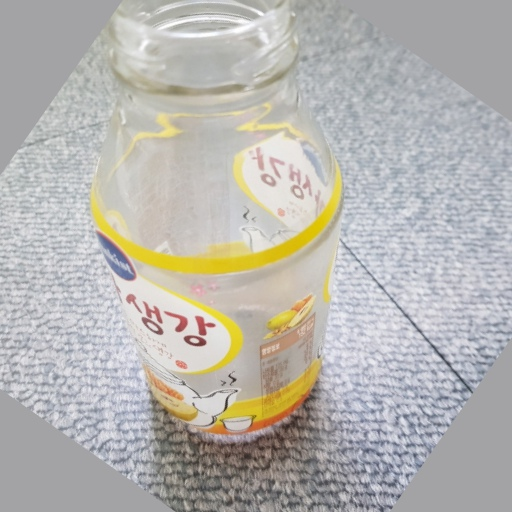Glass_4: (90, 1, 349, 447)
